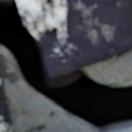brick: (16, 0, 131, 77), (0, 69, 12, 131), (108, 126, 131, 131)
crack: (0, 0, 131, 131)
